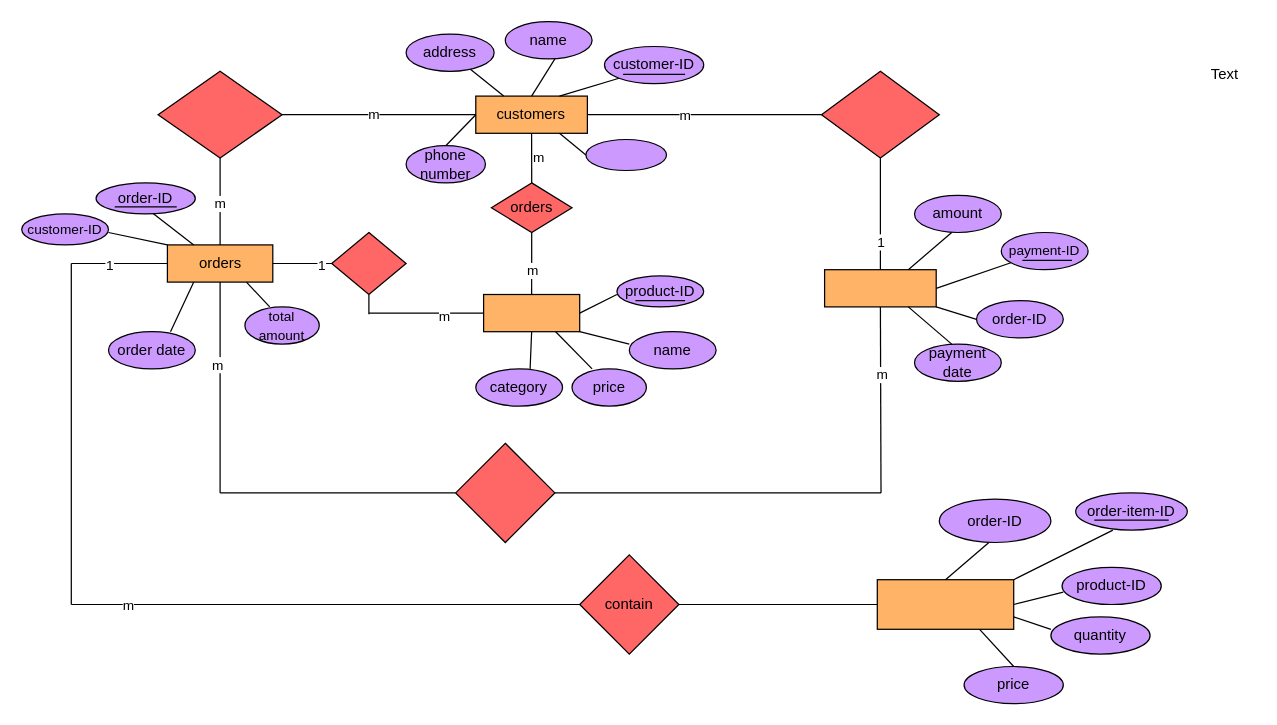
This 1277x725 diagram has some shape labels left out. Each missing label, with the box of its shape:
e-mail: (585, 138, 666, 170)
give: (820, 70, 939, 158)
many: (330, 231, 406, 294)
order-item: (876, 578, 1014, 629)
paid for: (454, 442, 555, 542)
payments: (823, 268, 936, 307)
place by: (157, 70, 282, 158)
product: (482, 293, 580, 332)
